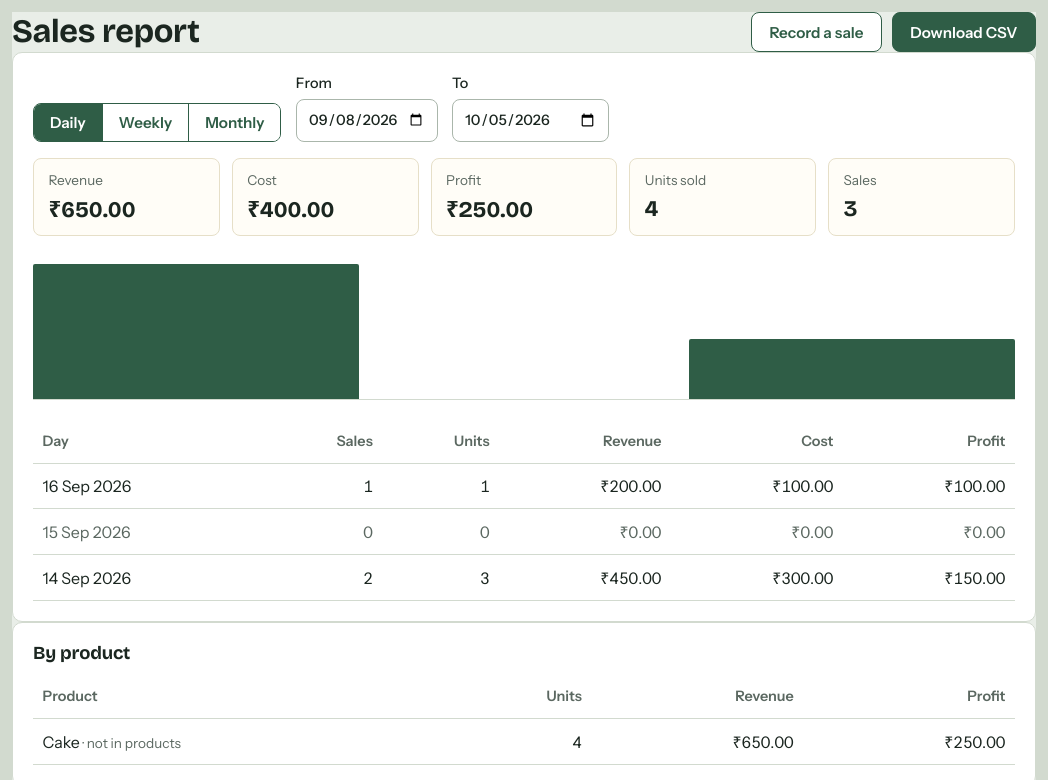
report shows totals and requests the chosen period
Expected: the text "₹650.00" is shown, [48,196,136,223]
Expected: the text "4" is shown, [645,195,659,222]
Click the button "Monthly".
click(234, 123)  # box [188,104,280,141]
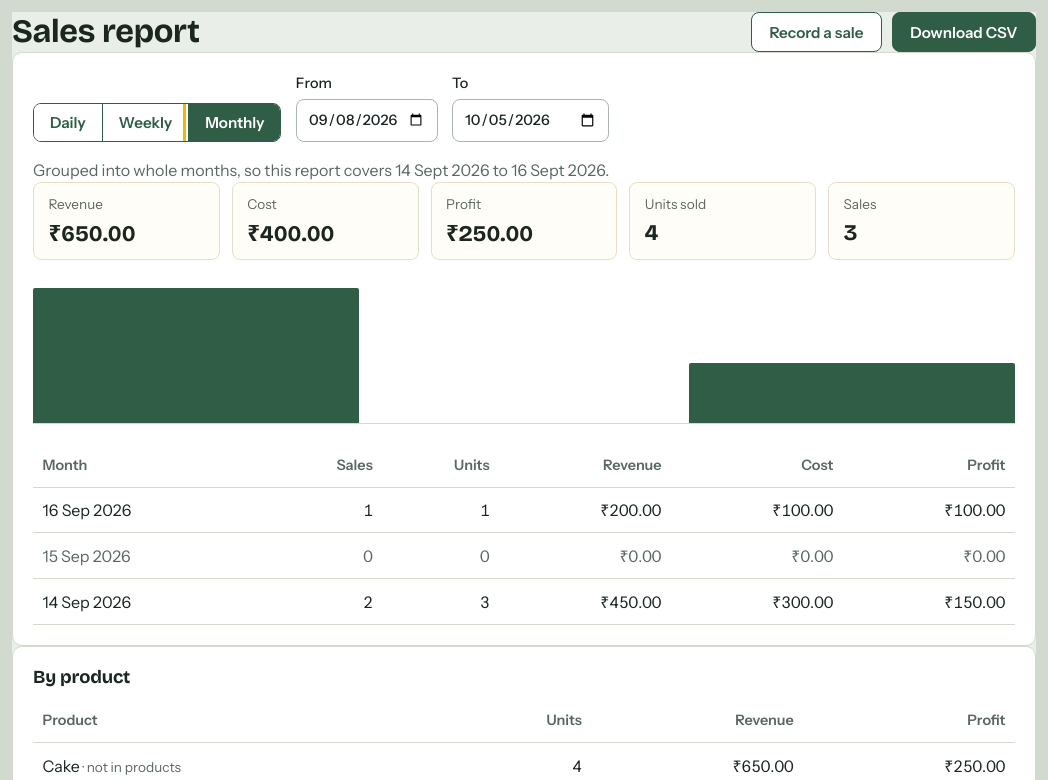
Now the column heading "Month" is shown, box [33,444,264,487]
